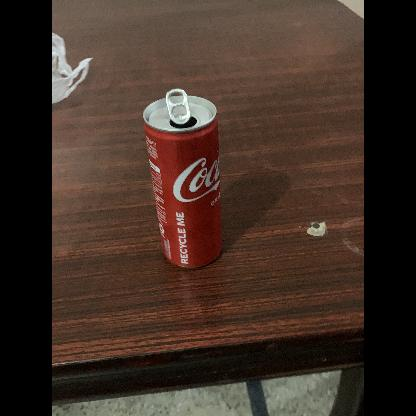Lid_Open: (158, 84, 206, 134)
Tin_Can: (138, 72, 232, 282)
